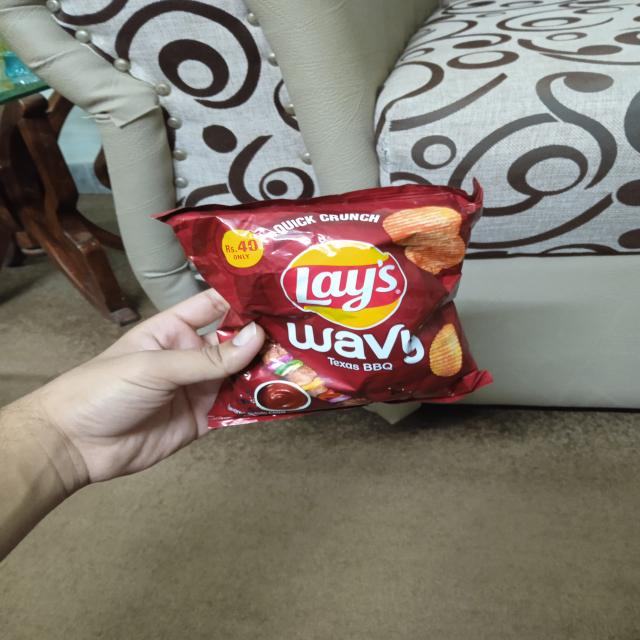Plastic: (143, 170, 502, 430)
